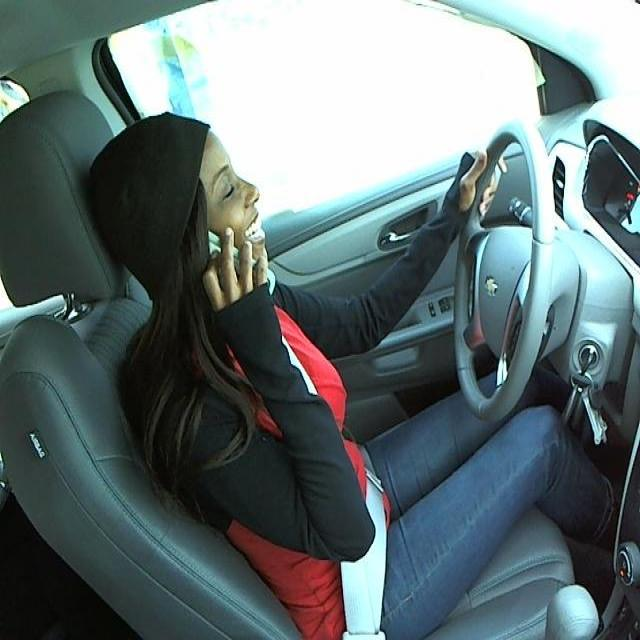using_phone: (70, 84, 306, 378)
